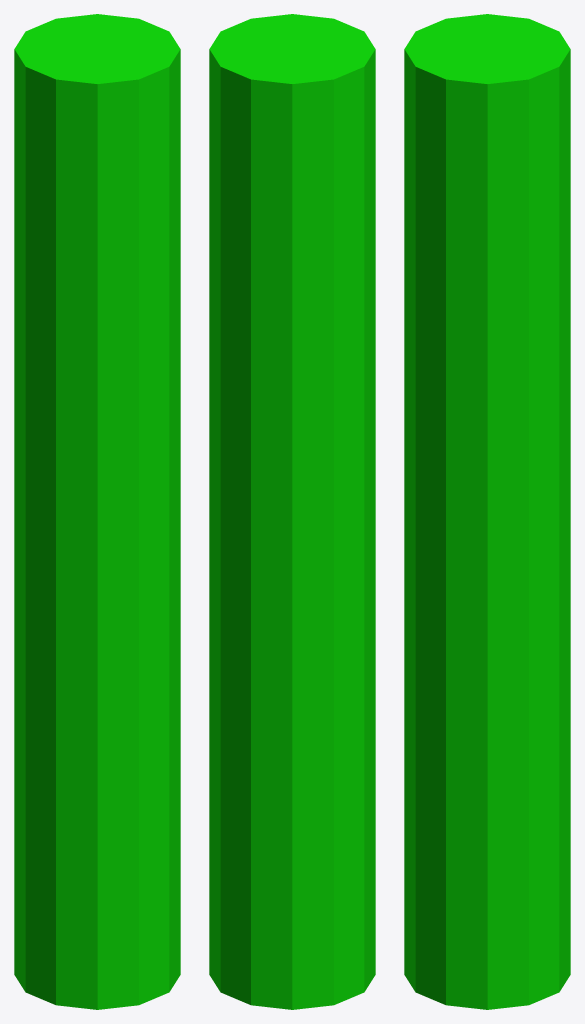
Rendered from sm_collider_004.fbx.
The picture shows the model from 3 angles, left to right: view 1: azimuth 30°, elevation 25°; view 2: azimuth 150°, elevation 25°; view 3: azimuth 270°, elevation 25°; orthographic projection.
Parts seen in each view (by area): view 1: sm_collider.004; view 2: sm_collider.004; view 3: sm_collider.004.
Part boxes in pixels (bbox=[...]): sm_collider.004: bbox=[14, 14, 180, 1009]; sm_collider.004: bbox=[209, 14, 375, 1009]; sm_collider.004: bbox=[404, 14, 570, 1009].
Bounding box in the file's own units: 211 × 1301 × 211.
